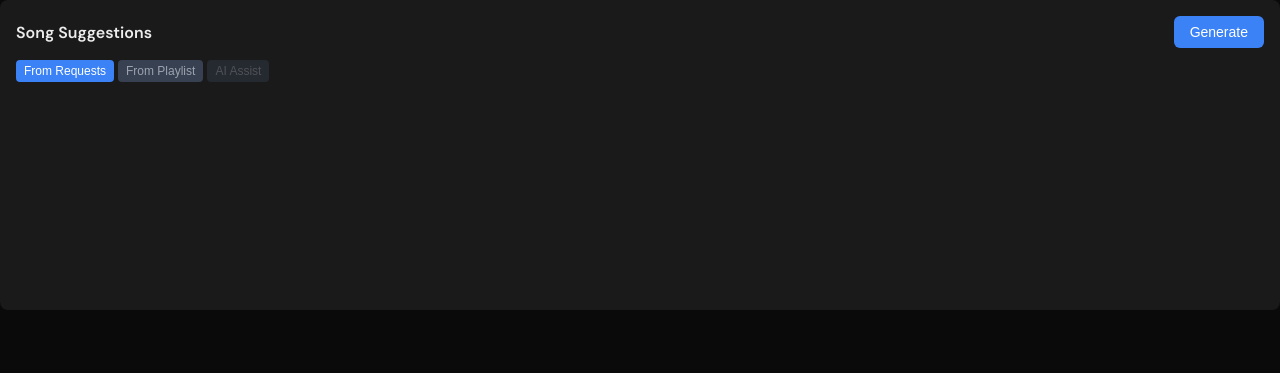
Scenario: RecommendationsCard › shows prompt input in AI Assist mode
Step 1. Click the button "Generate" → x=1219, y=32, box [1174,16,1264,48]
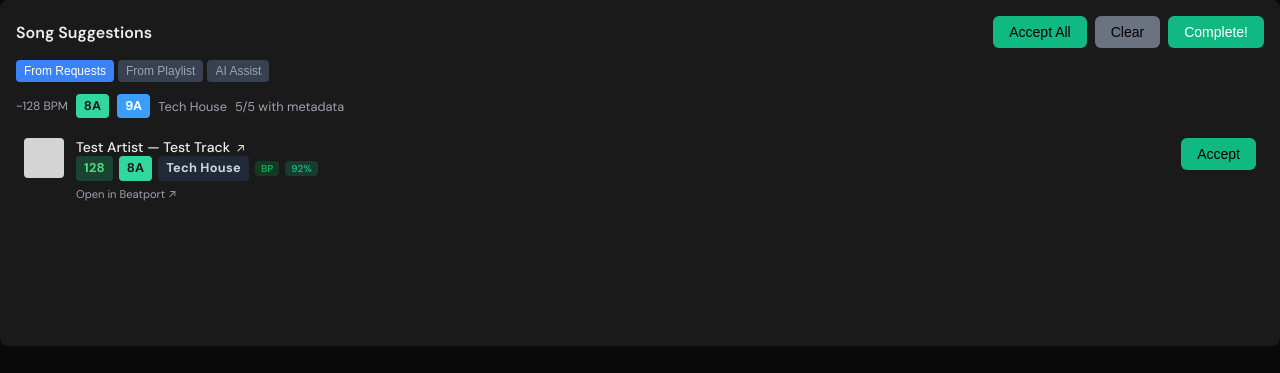
Step 2. Click the button "AI Assist" → x=238, y=71, box [207,60,269,82]
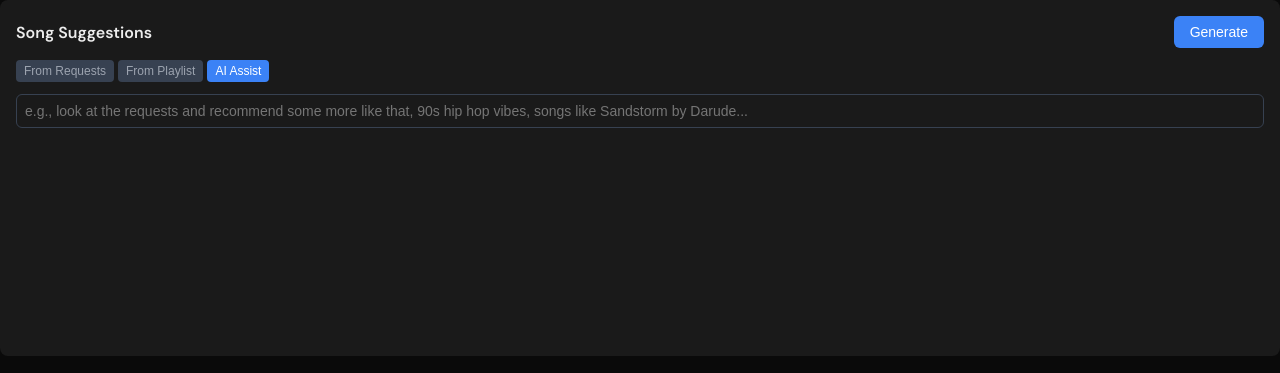
Check: the field with placeholder "recommend some more" is shown, box [16,94,1264,128]
